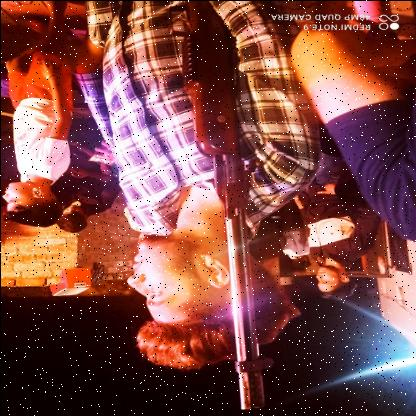rifle: (178, 0, 276, 411)
